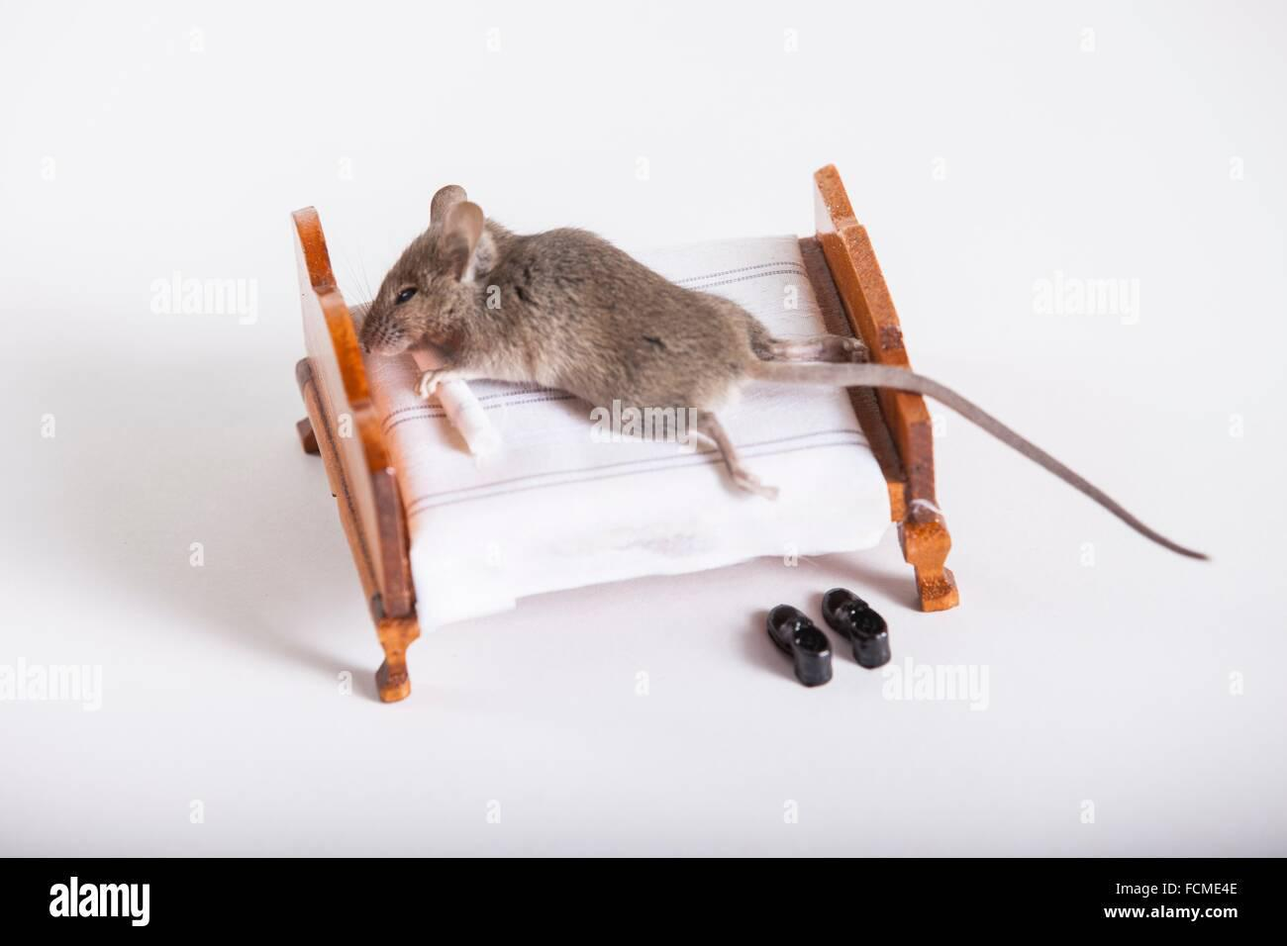rat: (357, 182, 1211, 564)
